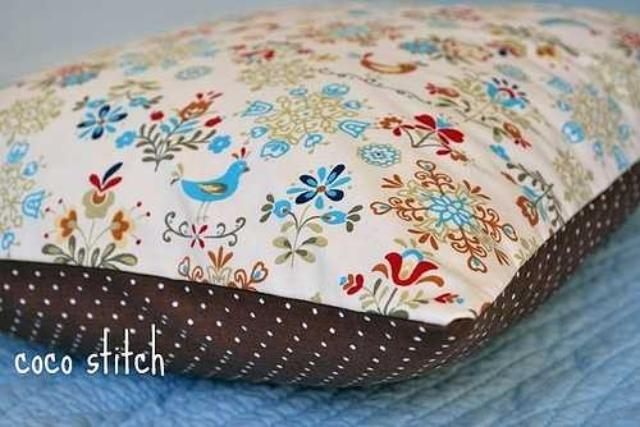pillow: (0, 0, 638, 390)
